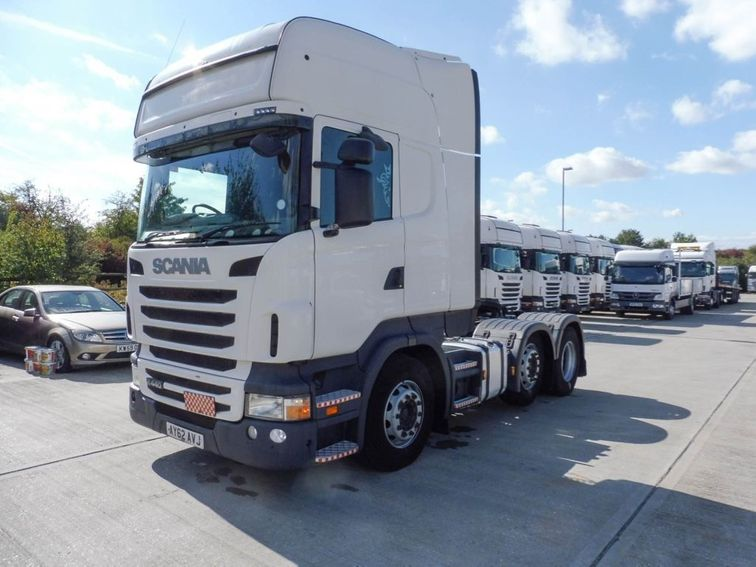Car: (0, 281, 137, 372)
Semi: (128, 15, 587, 473), (608, 247, 693, 317)
